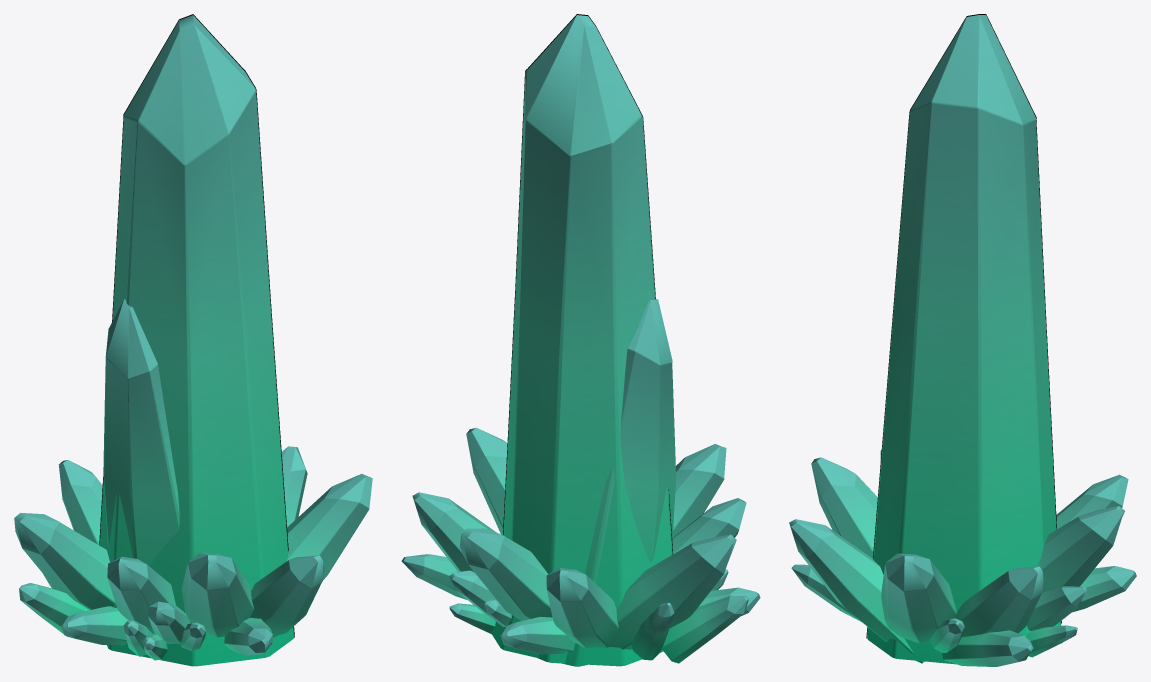
The model's file is Rooms_Paradise_Crystal_Regular_Surrounded_Art.fbx.
The picture shows the model from 3 angles, left to right: view 1: azimuth 30°, elevation 25°; view 2: azimuth 150°, elevation 25°; view 3: azimuth 270°, elevation 25°; orthographic projection.
Visible parts, largest first — view 1: Rooms_Paradise_Crystal_Regular_Surrounded_Art, Rooms_Paradise_Crystal2, Rooms_Paradise_Crystal3, Rooms_Paradise_Crystal15, Rooms_Paradise_Crystal4, Rooms_Paradise_Crystal5, Rooms_Paradise_Crystal6, Rooms_Paradise_Crystal5.001, Rooms_Paradise_Crystal8, Rooms_Paradise_Crystal14, Rooms_Paradise_Crystal6.001, Rooms_Paradise_Crystal9 (+4 smaller); view 2: Rooms_Paradise_Crystal_Regular_Surrounded_Art, Rooms_Paradise_Crystal2, Rooms_Paradise_Crystal3, Rooms_Paradise_Crystal4.001, Rooms_Paradise_Crystal5.001, Rooms_Paradise_Crystal4, Rooms_Paradise_Crystal14, Rooms_Paradise_Crystal6.001, Rooms_Paradise_Crystal15, Rooms_Paradise_Crystal9.001, Rooms_Paradise_Crystal6, Rooms_Paradise_Crystal12 (+5 smaller); view 3: Rooms_Paradise_Crystal_Regular_Surrounded_Art, Rooms_Paradise_Crystal5, Rooms_Paradise_Crystal15, Rooms_Paradise_Crystal4.001, Rooms_Paradise_Crystal6.001, Rooms_Paradise_Crystal4, Rooms_Paradise_Crystal8.001, Rooms_Paradise_Crystal5.001, Rooms_Paradise_Crystal7.001, Rooms_Paradise_Crystal9.001, Rooms_Paradise_Crystal_Outline, Rooms_Paradise_Crystal13.001 (+2 smaller).
Part boxes in pixels (box(x1,y1,x2,y2)): Rooms_Paradise_Crystal_Regular_Surrounded_Art: box(99, 15, 294, 666); Rooms_Paradise_Crystal2: box(103, 299, 179, 566); Rooms_Paradise_Crystal3: box(14, 512, 115, 609); Rooms_Paradise_Crystal15: box(286, 474, 372, 579); Rooms_Paradise_Crystal4: box(181, 553, 253, 637); Rooms_Paradise_Crystal5: box(250, 555, 324, 637); Rooms_Paradise_Crystal6: box(107, 556, 175, 632); Rooms_Paradise_Crystal5.001: box(58, 460, 102, 544); Rooms_Paradise_Crystal8: box(61, 606, 127, 645); Rooms_Paradise_Crystal14: box(19, 583, 89, 637); Rooms_Paradise_Crystal6.001: box(281, 446, 307, 526); Rooms_Paradise_Crystal9: box(224, 618, 272, 655); Rooms_Paradise_Crystal_Regular_Surrounded_Art: box(503, 15, 672, 666); Rooms_Paradise_Crystal2: box(491, 299, 676, 666); Rooms_Paradise_Crystal3: box(609, 534, 736, 649); Rooms_Paradise_Crystal4.001: box(459, 528, 552, 620); Rooms_Paradise_Crystal5.001: box(546, 568, 618, 648); Rooms_Paradise_Crystal4: box(672, 444, 726, 537); Rooms_Paradise_Crystal14: box(661, 596, 748, 663); Rooms_Paradise_Crystal6.001: box(412, 492, 496, 571); Rooms_Paradise_Crystal15: box(466, 427, 507, 534); Rooms_Paradise_Crystal9.001: box(500, 616, 575, 654); Rooms_Paradise_Crystal6: box(672, 498, 746, 553); Rooms_Paradise_Crystal12: box(631, 602, 674, 660); Rooms_Paradise_Crystal_Regular_Surrounded_Art: box(867, 15, 1061, 664); Rooms_Paradise_Crystal5: box(789, 519, 924, 663); Rooms_Paradise_Crystal15: box(881, 553, 956, 643); Rooms_Paradise_Crystal4.001: box(1037, 506, 1124, 592); Rooms_Paradise_Crystal6.001: box(954, 566, 1044, 637); Rooms_Paradise_Crystal4: box(811, 457, 877, 558); Rooms_Paradise_Crystal8.001: box(942, 630, 1033, 666); Rooms_Paradise_Crystal5.001: box(1056, 474, 1128, 528); Rooms_Paradise_Crystal7.001: box(1026, 586, 1087, 630); Rooms_Paradise_Crystal9.001: box(1072, 566, 1136, 612); Rooms_Paradise_Crystal_Outline: box(866, 14, 1061, 638); Rooms_Paradise_Crystal13.001: box(1026, 625, 1077, 657).
Size of the model in its own units: 804 by 1474 by 751.
